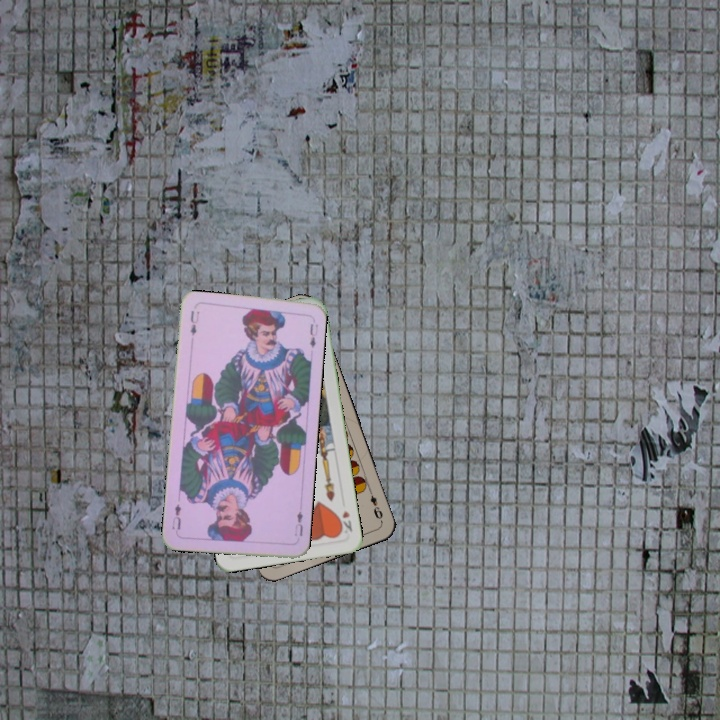E9: (364, 485, 385, 524)
EU: (290, 507, 306, 539), (186, 307, 201, 338)
HK: (334, 507, 355, 536)
